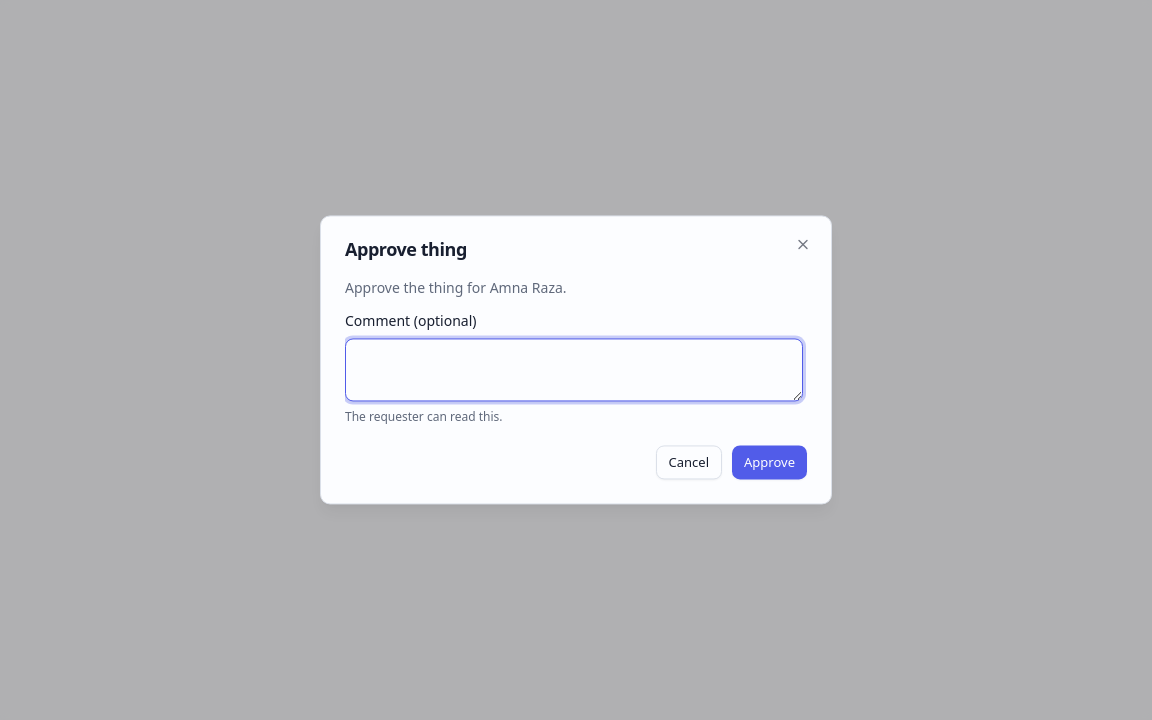
Scenario: DecisionDialog › checks the note against the module's schema before sending
This screenshot has width=1152, height=720.
Type "Far too long a note" into the text box labelled "Comment (optional)" at [574, 370], box [345,338,803,402]
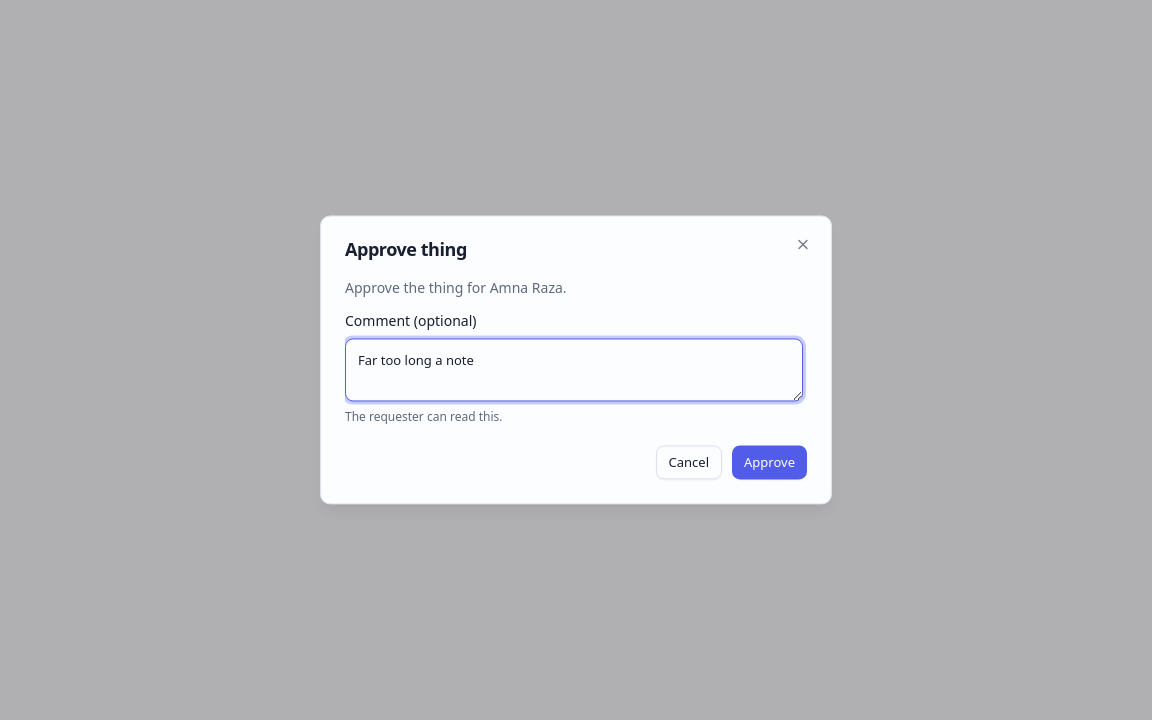
Click the button "Approve" at [770, 463], box [732,446,807,480]
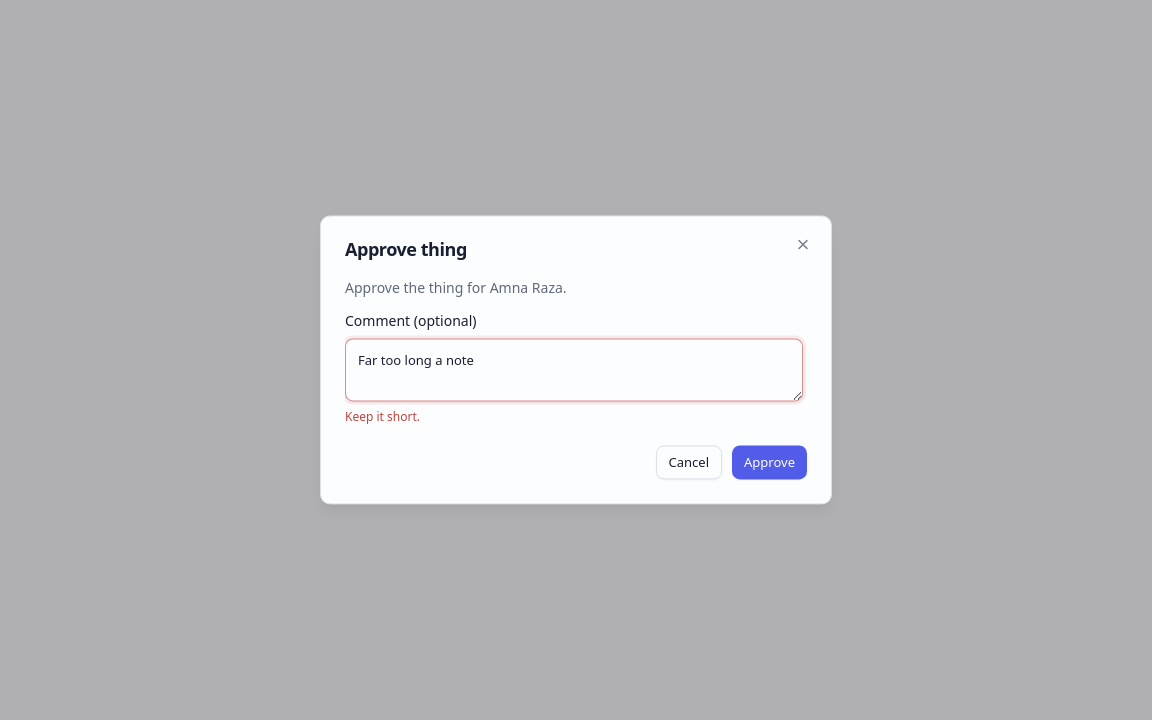
Expected: the text "Keep it short." is shown, [345,409,420,426]
